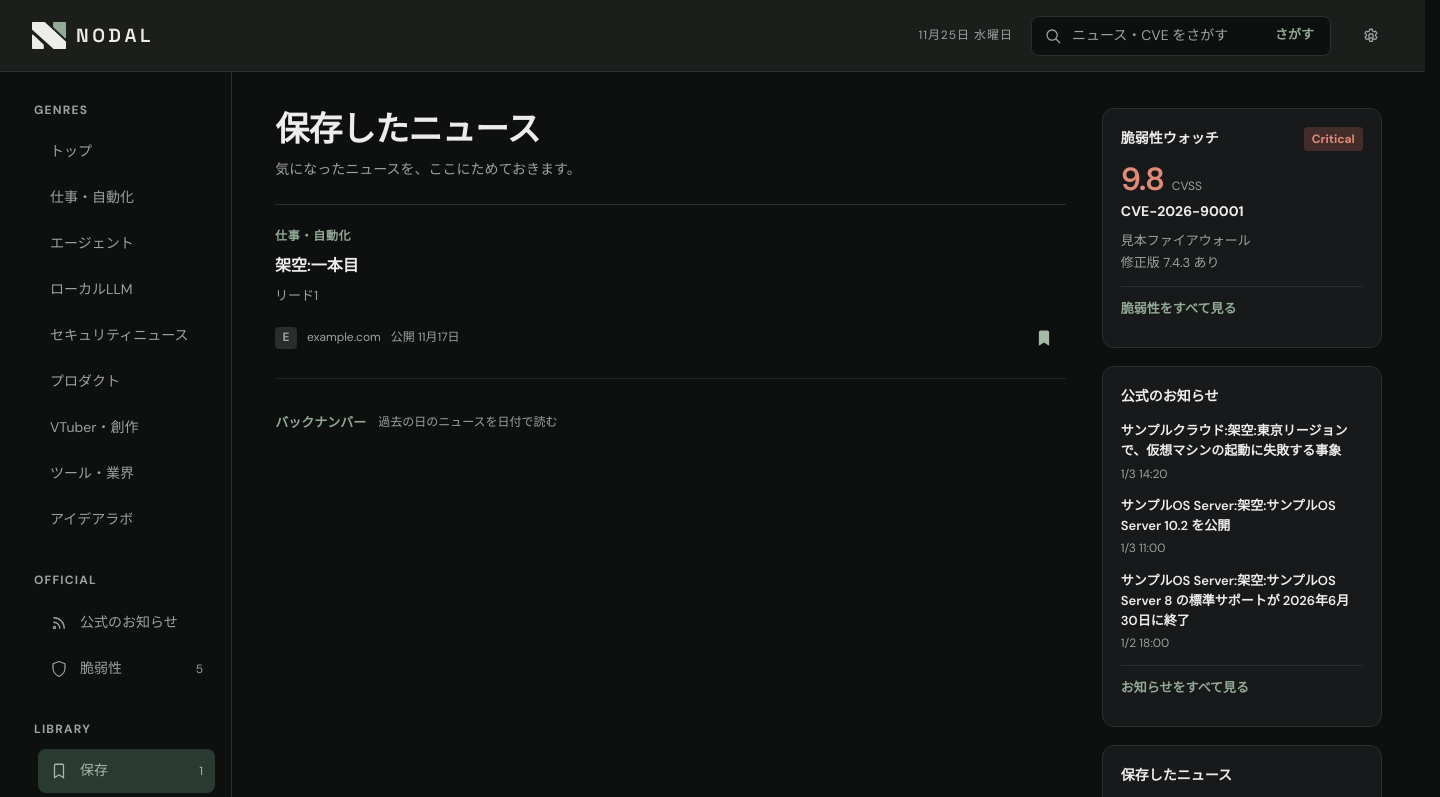
it: バックナンバー › TST-ARC-06 保存の画面の一覧の下に、バックナンバーへのリンク(0件のときも)
Expected: the text "公開 11月17日" is shown, [391,327,460,348]
// 外して0件になっても、リンクは残る
Click the button named "保存から外す" at (1044, 338), box [1022,316,1066,360]
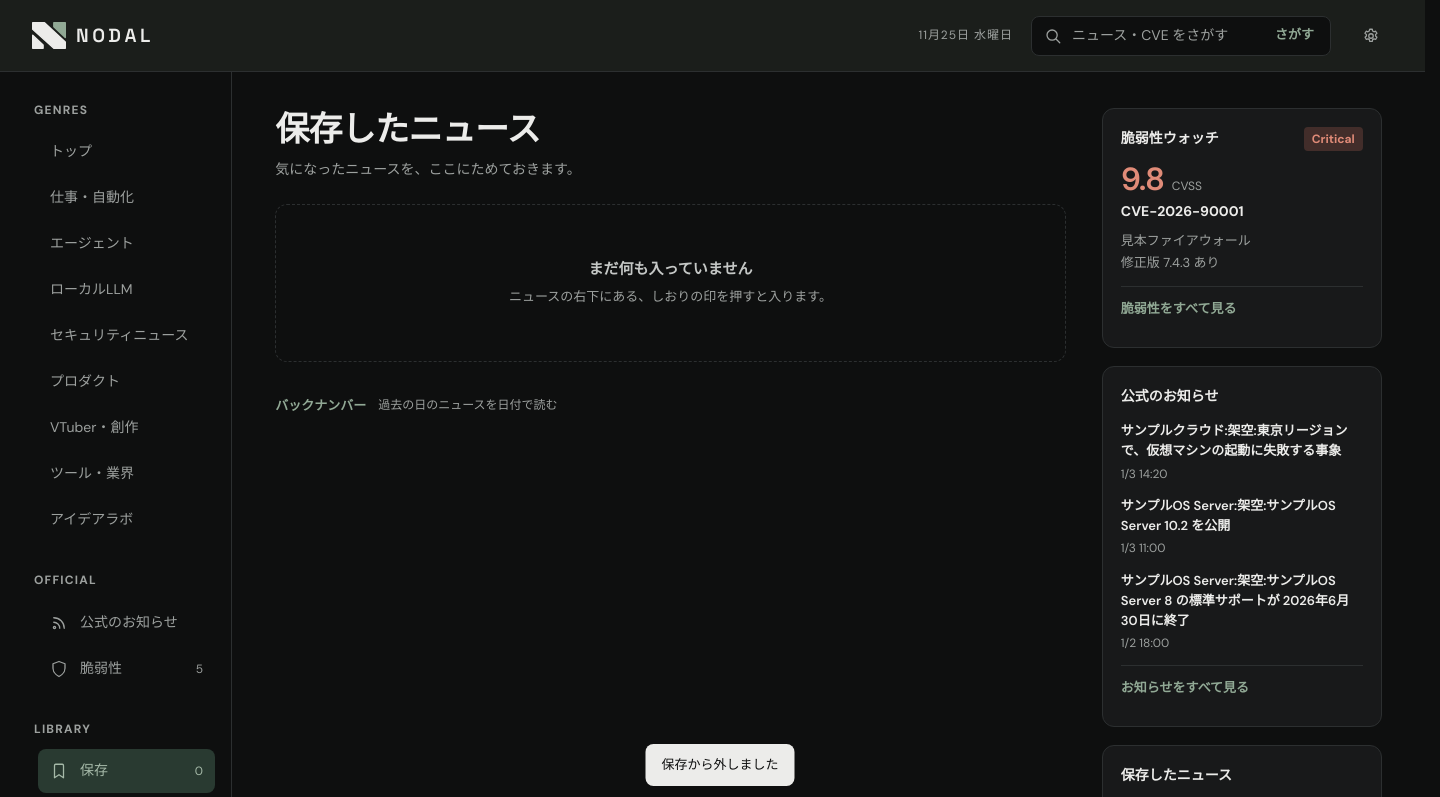
Now the text "まだ何も入っていません" is shown, box [589,259,752,279]
